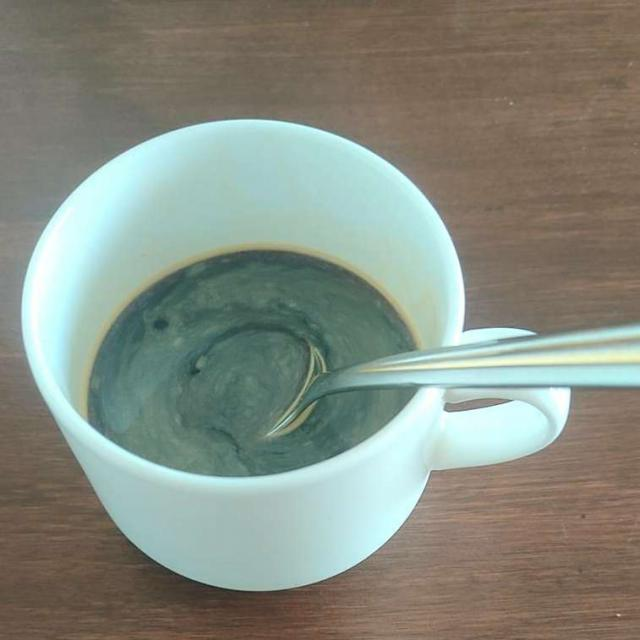coffee-with-caffeine: (90, 251, 410, 469)
